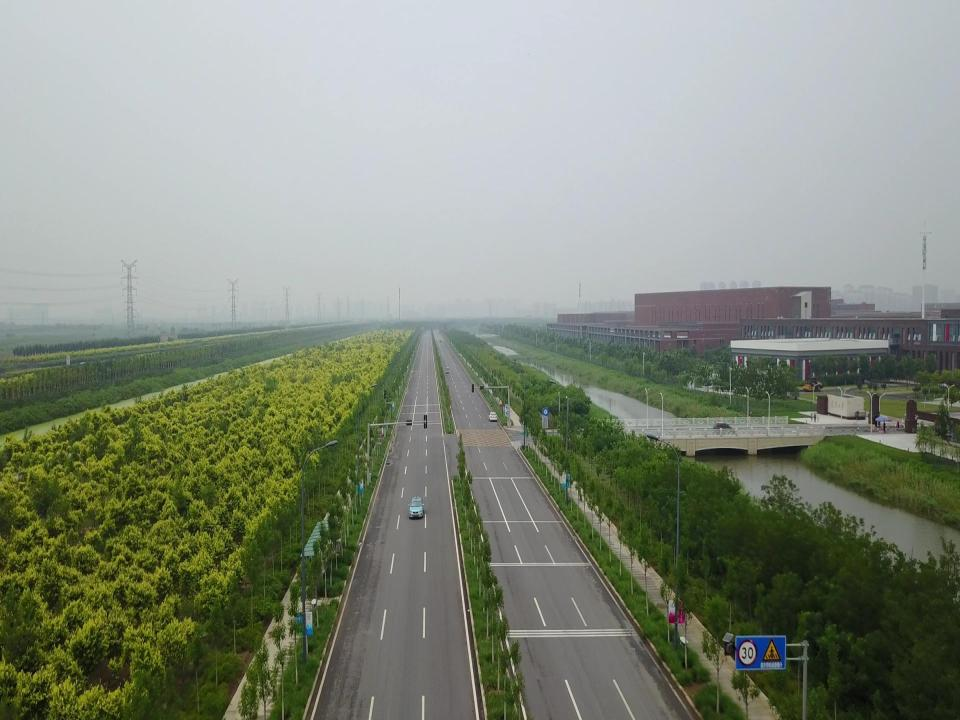car: (408, 496, 424, 519), (713, 422, 737, 435), (488, 412, 497, 421), (440, 339, 442, 342)
van: (445, 368, 449, 373)
